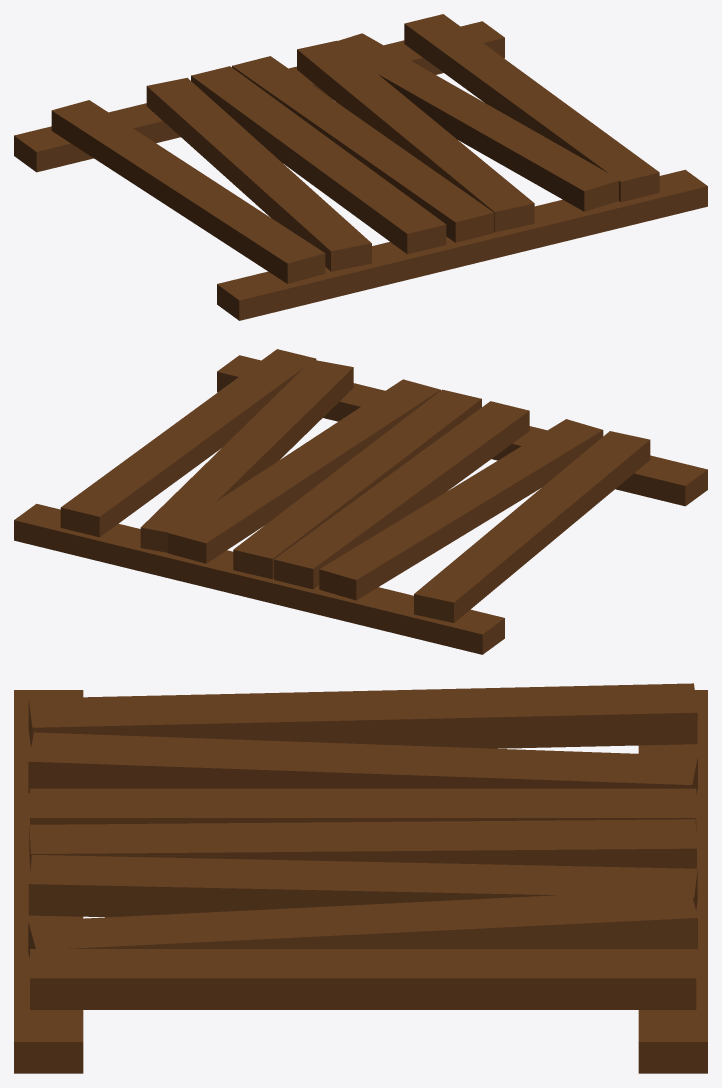
Rendered from Planks.FBX.
3 views of the same model, one above another, from view 1: azimuth 30°, elevation 25°; view 2: azimuth 150°, elevation 25°; view 3: azimuth 270°, elevation 25° (orthographic). The views are drawn at different scales.
Parts seen in each view (by area): view 1: Planks; view 2: Planks; view 3: Planks.
Part boxes in pixels (left/top/right/bottom): Planks: left=14, top=14, right=707, bottom=320; Planks: left=14, top=349, right=707, bottom=654; Planks: left=14, top=683, right=707, bottom=1073.
Bounding box in the file's own units: 600 × 50 × 500.
